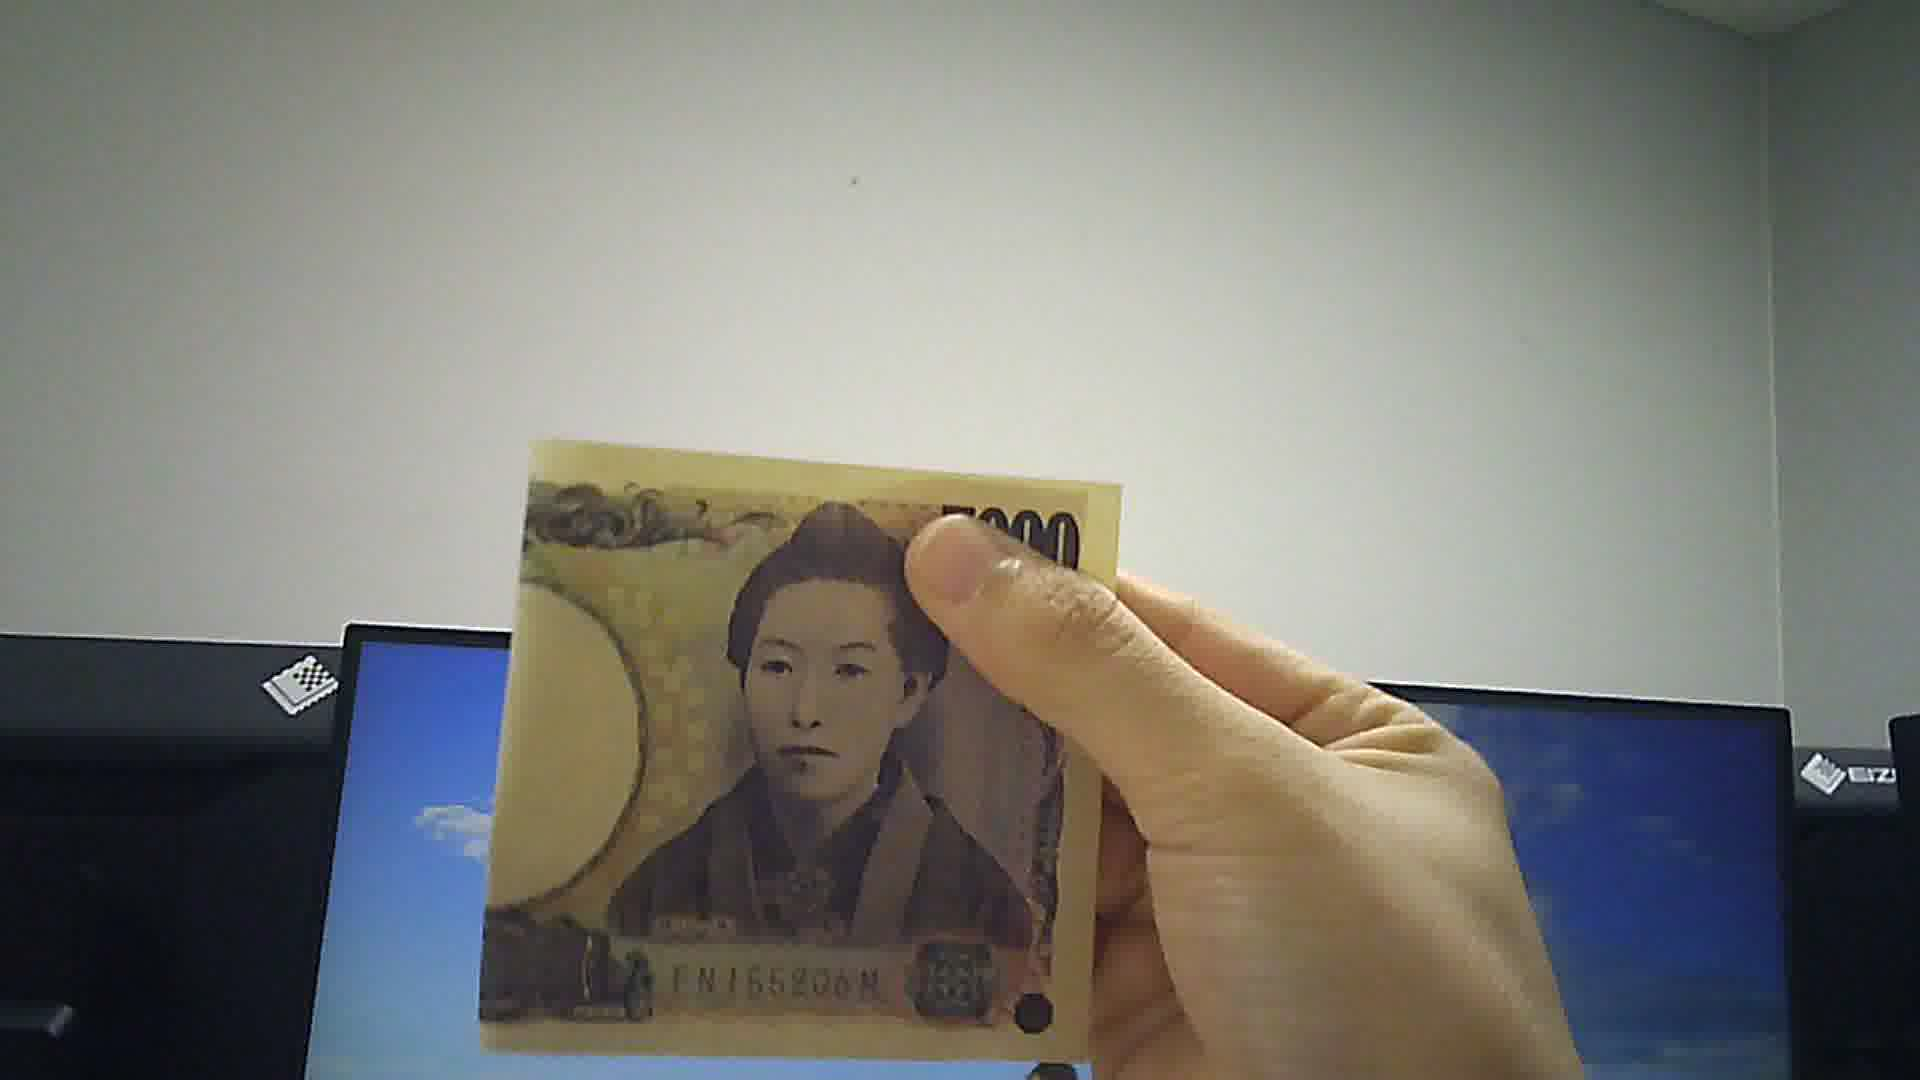5,000 Yen: (469, 446, 1118, 1065)
